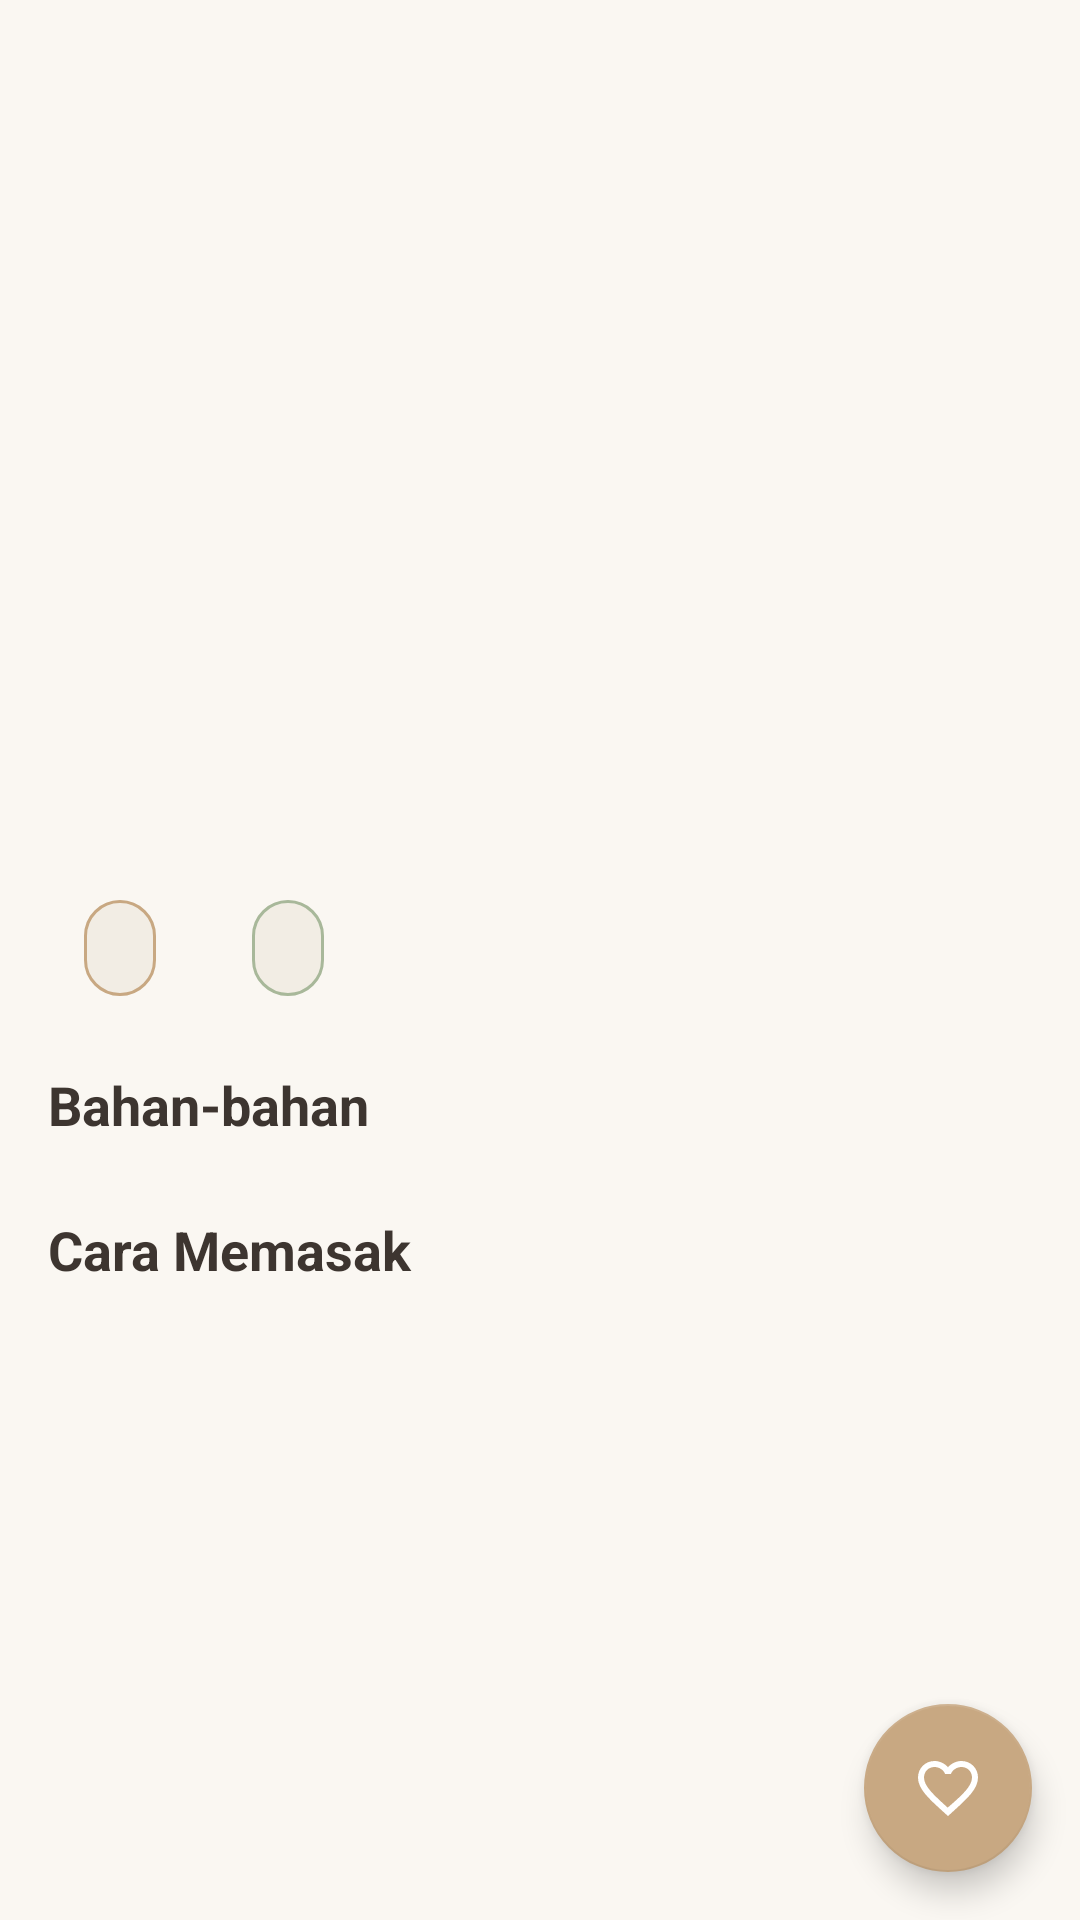

Icons on this 1080w x 1920h Android screen, each with the point to tap as (x,y):
favorite: (948,1788)
